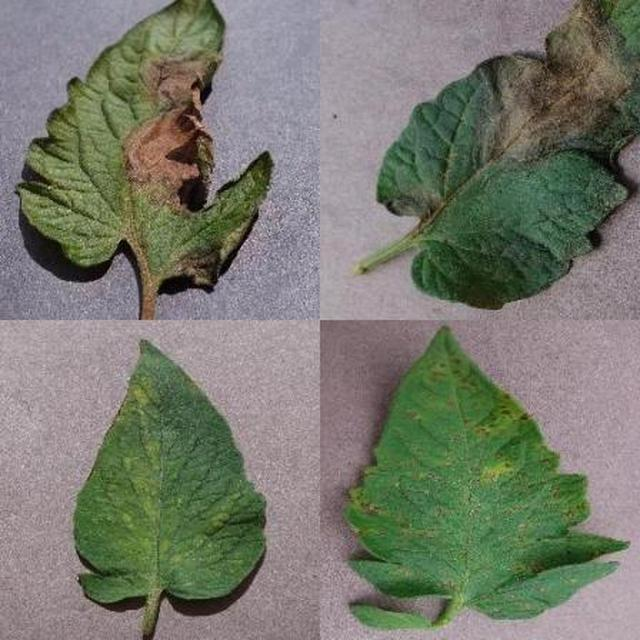Late Blight Leaf: (205, 205, 640, 640)
